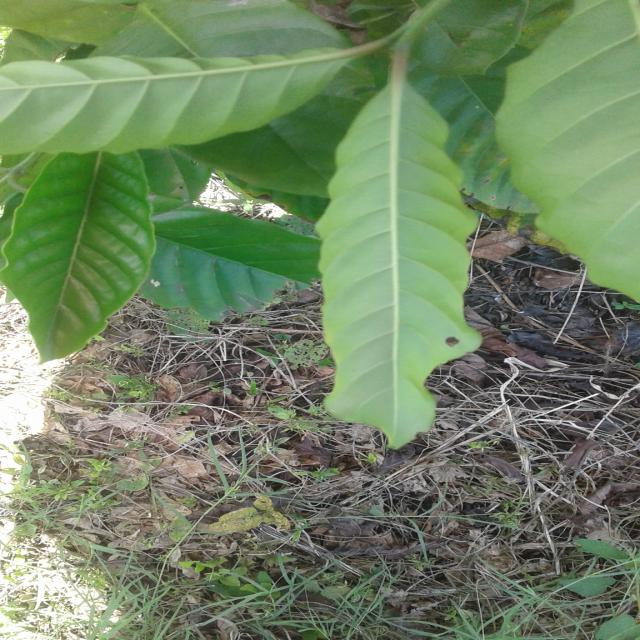Sanas: (316, 86, 483, 452)
